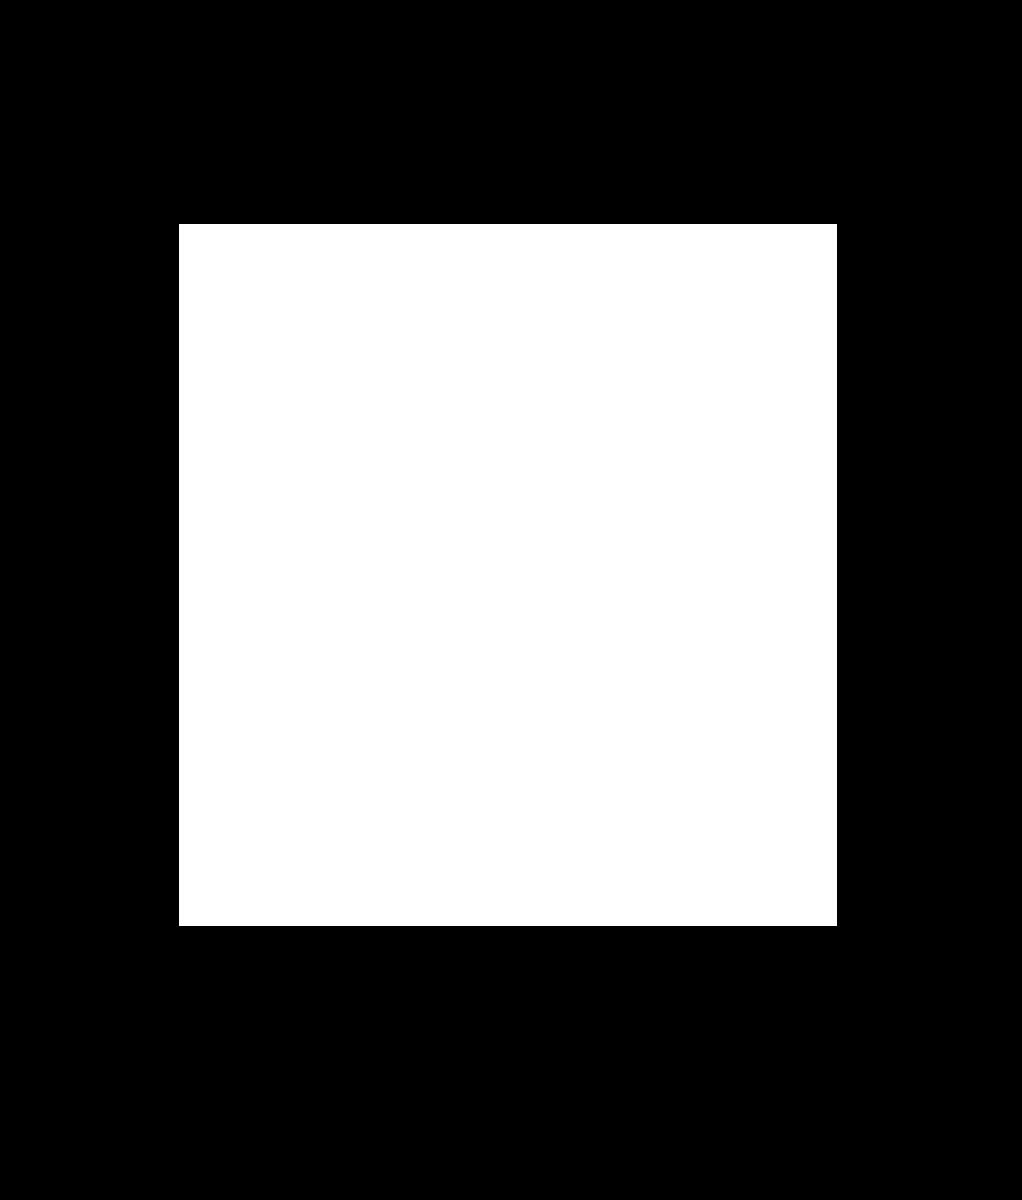table: (179, 224, 837, 926)
